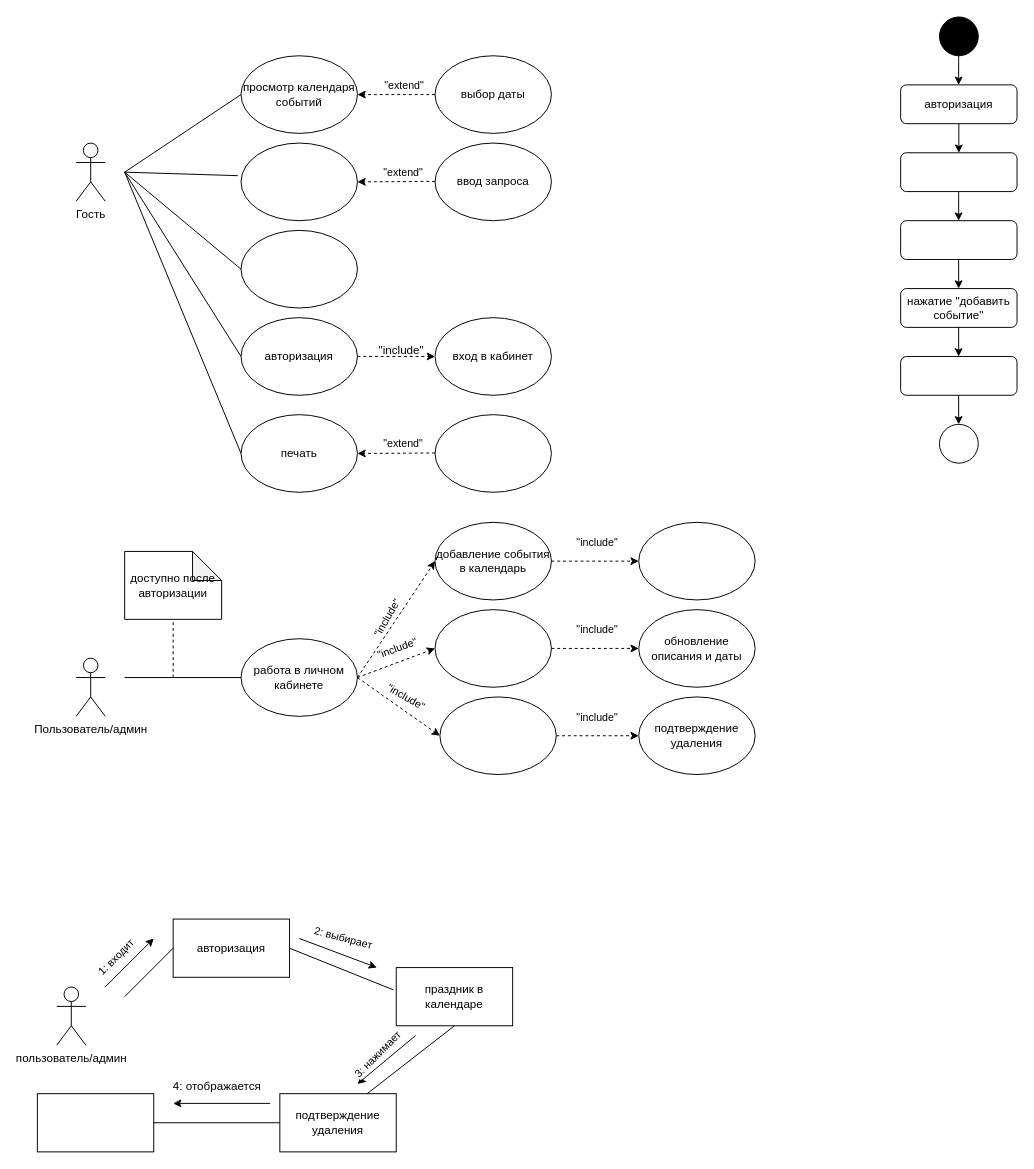
The diagram is 1034 pixels wide and 1169 high, and some of its shapes have lost their labels. The shapes that lost their labels are listed below. From the top down, each one's box as (x1, y1, x2, y2) in pixels, then its label:
(240, 142, 357, 221): поиск событий по сайту
(900, 152, 1017, 192): переход к добавлению события
(900, 220, 1017, 259): ввод названия, даты
(240, 229, 357, 308): просмотр контактной информации колледжа
(900, 356, 1017, 395): сохранение
(434, 414, 551, 492): параметры печати
(638, 521, 755, 600): ввод даты и описания
(434, 609, 551, 687): редактирование события
(439, 696, 556, 775): удаление события
(36, 1093, 154, 1152): календарь
